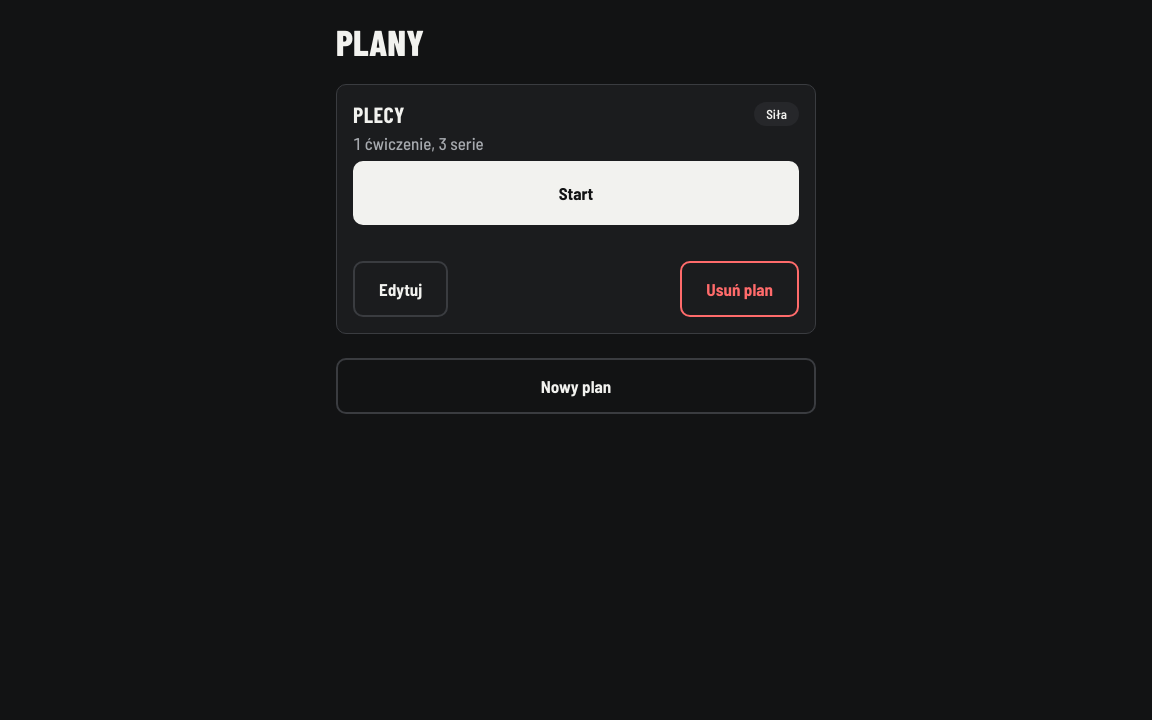
it: "Nowy plan" asks "Jaki plan?" › "Anuluj" closes the question, stays on the list and changes nothing
Click the button "Nowy plan" at (576, 386), box [336,358,816,414]
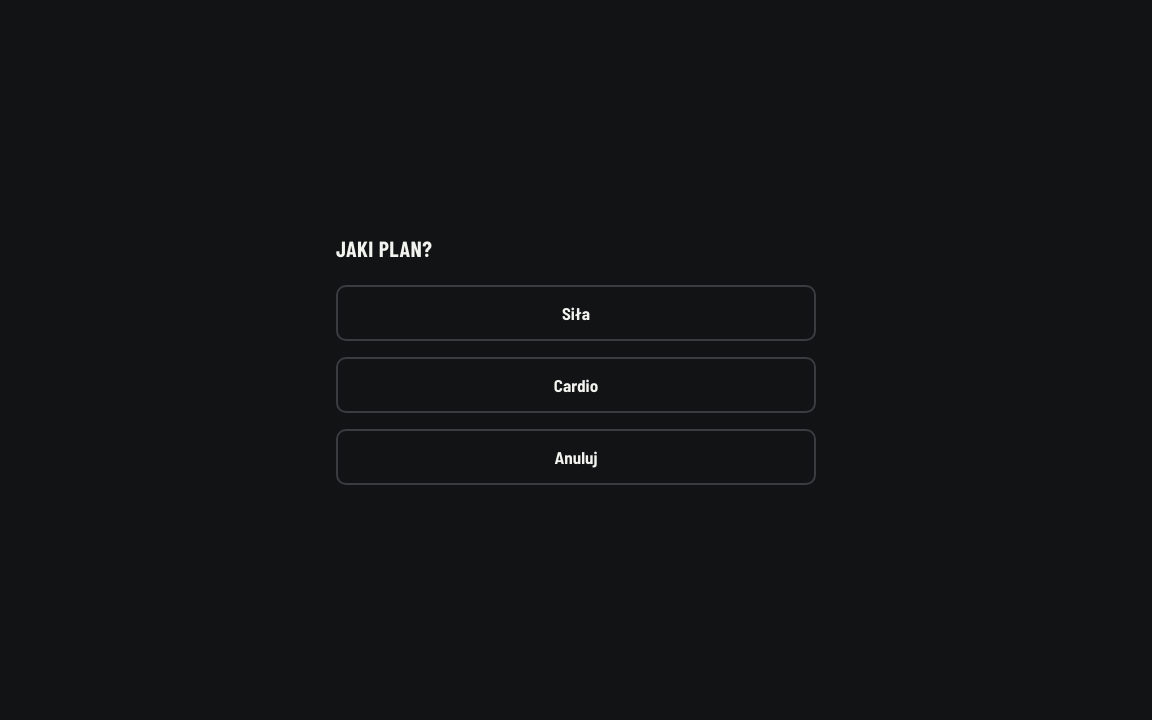
Expected: the heading "Jaki plan?" is shown, [336,235,432,261]
Click the button "Anuluj" at (576, 457), box [336,429,816,485]
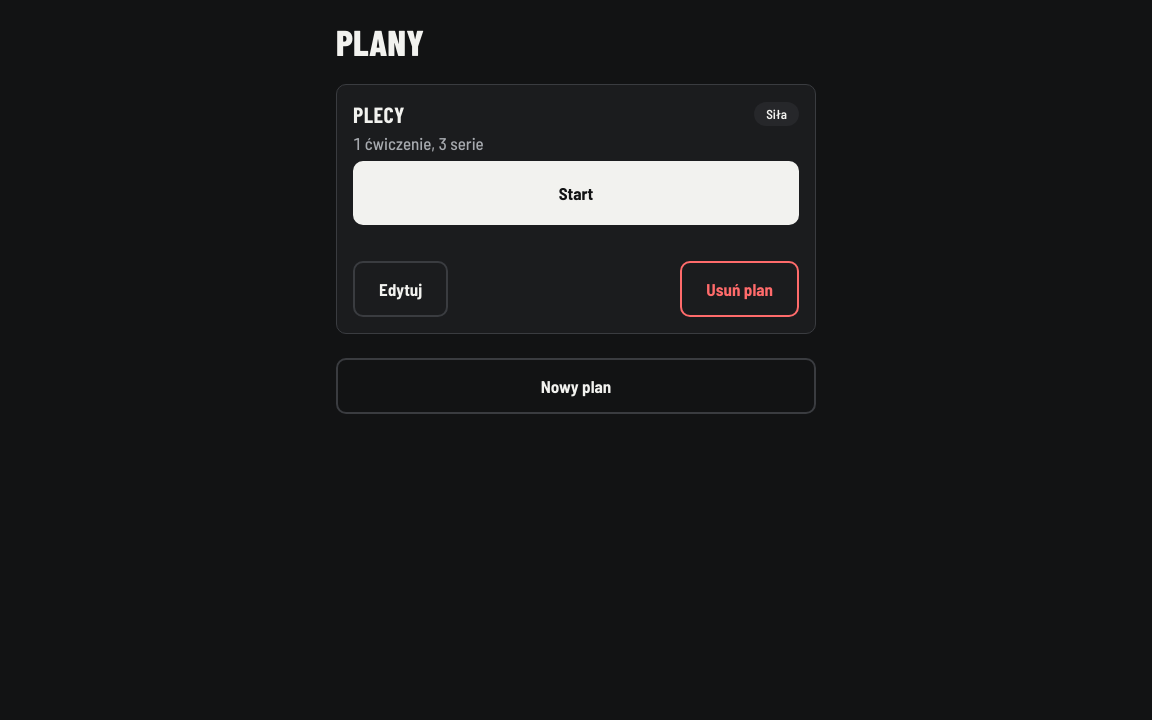
Expected: the heading "Plany" is shown, [336,20,424,63]
Expected: the text "Jaki plan?" is gone
